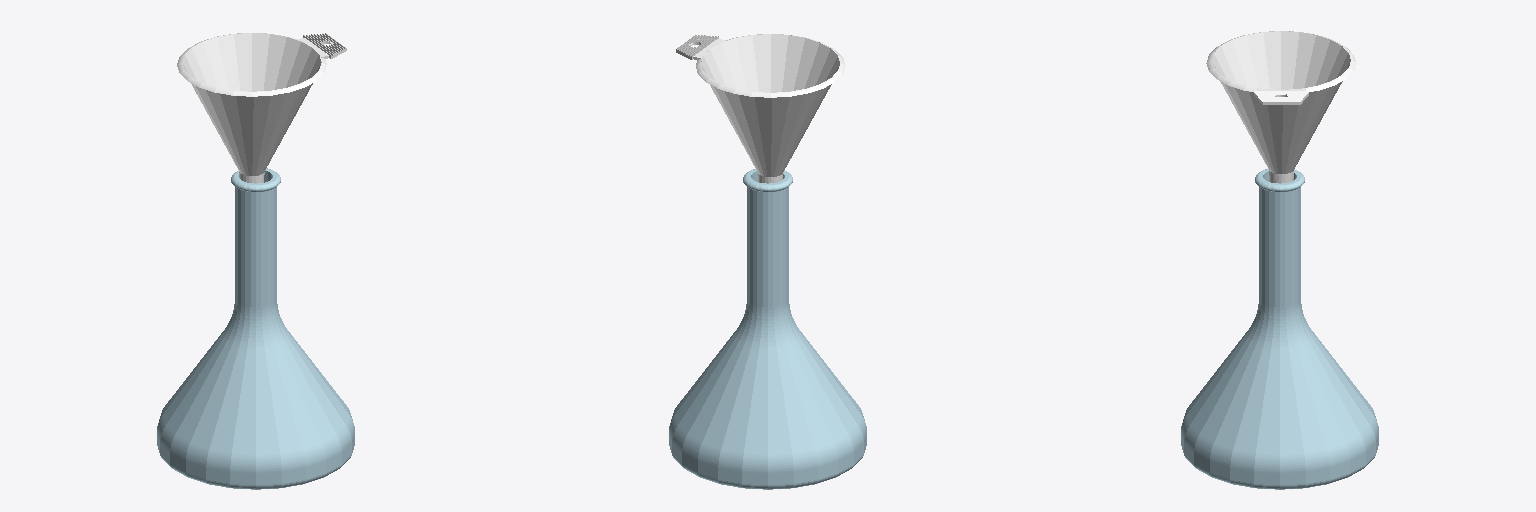
Rendered from Maatkolf_en_Trechter.obj.
The picture shows the model from 3 angles: view 1: azimuth 30°, elevation 25°; view 2: azimuth 150°, elevation 25°; view 3: azimuth 270°, elevation 25°; orthographic projection.
Visible parts, largest first — view 1: Mesh1 small_Erlenmeyer_flask1 Erlenmeyer_flask_and_stopper1 Mode, Mesh3 Group2 Group1 Kitchen_Funnel1 Model, Mesh17 Group1 Kitchen_Funnel1 Model; view 2: Mesh1 small_Erlenmeyer_flask1 Erlenmeyer_flask_and_stopper1 Mode, Mesh3 Group2 Group1 Kitchen_Funnel1 Model, Mesh17 Group1 Kitchen_Funnel1 Model; view 3: Mesh1 small_Erlenmeyer_flask1 Erlenmeyer_flask_and_stopper1 Mode, Mesh3 Group2 Group1 Kitchen_Funnel1 Model, Mesh17 Group1 Kitchen_Funnel1 Model.
Boxes of the visible parts, x1,y1,x2,y2 form: Mesh1 small_Erlenmeyer_flask1 Erlenmeyer_flask_and_stopper1 Mode: [157, 168, 354, 489]; Mesh3 Group2 Group1 Kitchen_Funnel1 Model: [182, 33, 321, 183]; Mesh17 Group1 Kitchen_Funnel1 Model: [177, 33, 328, 96]; Mesh1 small_Erlenmeyer_flask1 Erlenmeyer_flask_and_stopper1 Mode: [669, 169, 866, 489]; Mesh3 Group2 Group1 Kitchen_Funnel1 Model: [701, 34, 839, 183]; Mesh17 Group1 Kitchen_Funnel1 Model: [693, 34, 845, 97]; Mesh1 small_Erlenmeyer_flask1 Erlenmeyer_flask_and_stopper1 Mode: [1181, 169, 1378, 489]; Mesh3 Group2 Group1 Kitchen_Funnel1 Model: [1212, 31, 1350, 183]; Mesh17 Group1 Kitchen_Funnel1 Model: [1206, 31, 1355, 91].
Size of the model in its own units: 11.14 by 24.24 by 11.14.